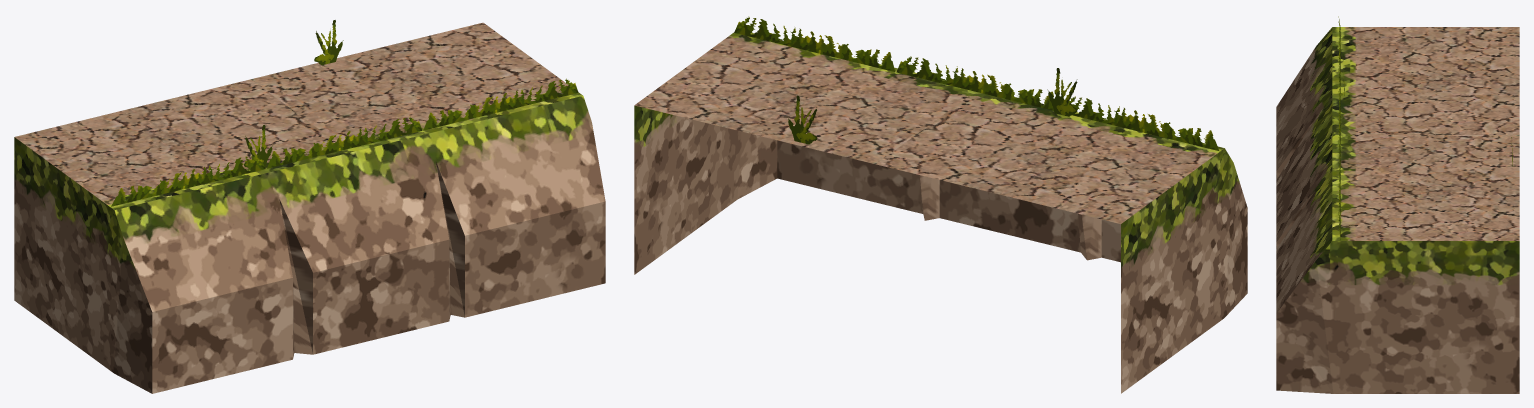
The model's file is terreno_01.FBX.
3 renders of one model, left to right at view 1: azimuth 30°, elevation 25°; view 2: azimuth 150°, elevation 25°; view 3: azimuth 270°, elevation 25°, orthographic. The views are drawn at different scales.
Visible parts, largest first — view 1: terreno_01; view 2: terreno_01; view 3: terreno_01.
Part boxes in pixels (x1=…): terreno_01: x1=14, y1=20, x2=605, y2=393; terreno_01: x1=634, y1=16, x2=1247, y2=393; terreno_01: x1=1276, y1=16, x2=1519, y2=393.
Bounding box in the file's own units: 236 × 101 × 113.
